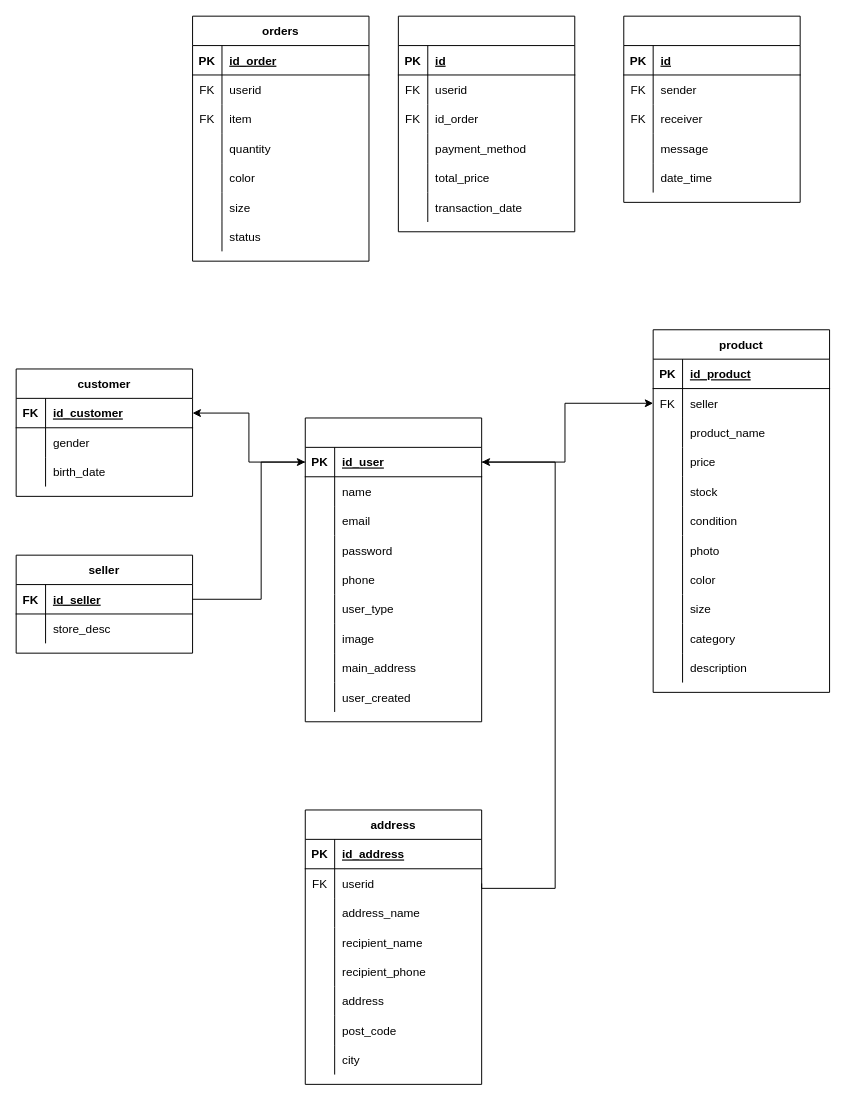
Some shapes in this 846 by 1101 pixel diagram are drawn without their labels. Each missing label, with the box of its shape:
chat: (623, 15, 800, 202)
transactions: (397, 15, 575, 232)
Users: (304, 417, 482, 722)
